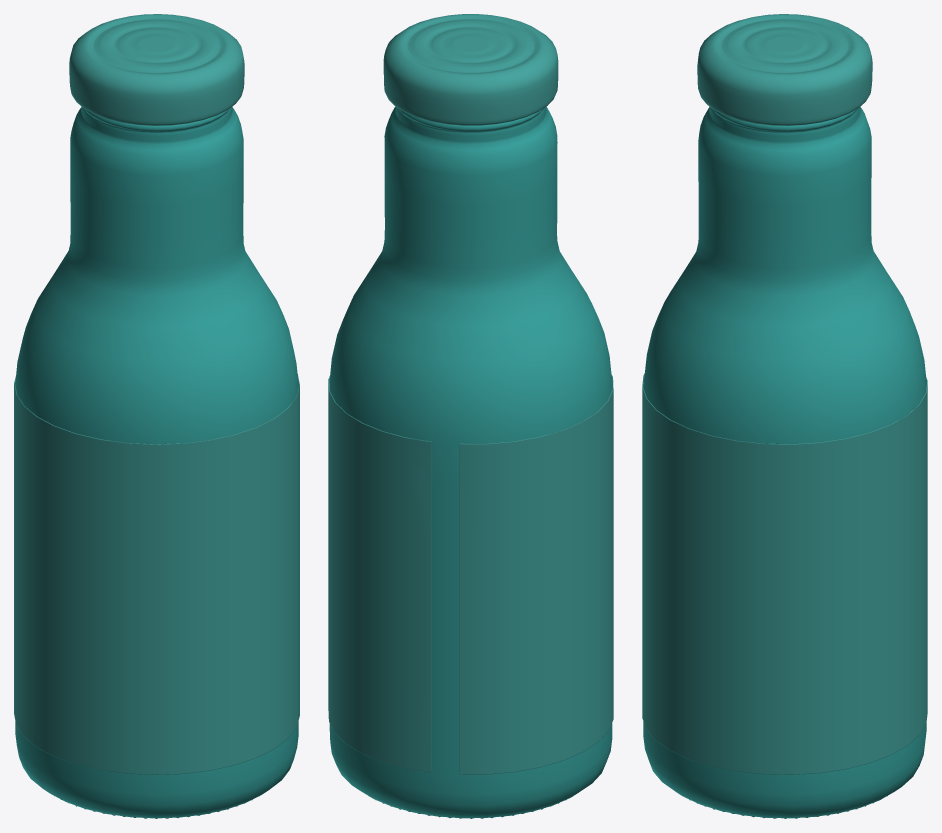
File: hatsu_verde.fbx
The picture shows the model from 3 angles, left to right: view 1: azimuth 30°, elevation 25°; view 2: azimuth 150°, elevation 25°; view 3: azimuth 270°, elevation 25°; orthographic projection.
Parts seen in each view (by area): view 1: Bottle; view 2: Bottle; view 3: Bottle.
Boxes of the visible parts, left/top/right/bottom form: Bottle: left=14, top=14, right=299, bottom=818; Bottle: left=328, top=14, right=613, bottom=818; Bottle: left=642, top=14, right=927, bottom=818.
Bounding box in the file's own units: 6.6 × 18.42 × 6.6.
